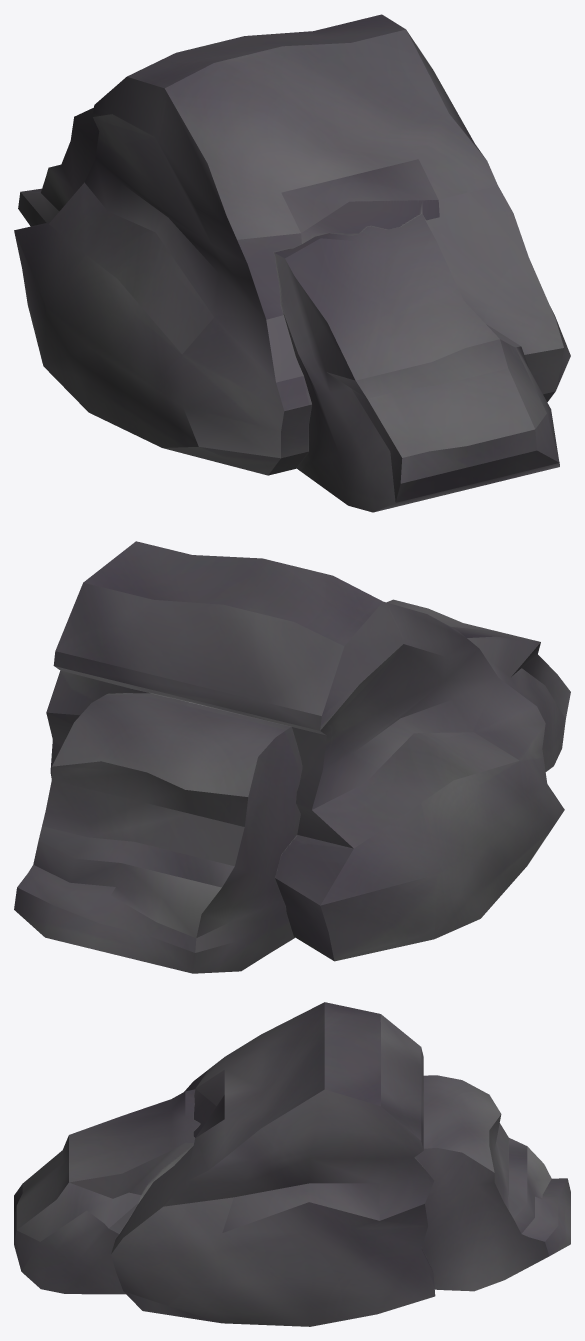
Rendered from batu2.fbx.
The picture shows the model from 3 angles, top to bottom: view 1: azimuth 30°, elevation 25°; view 2: azimuth 150°, elevation 25°; view 3: azimuth 270°, elevation 25°; orthographic projection. The views are drawn at different scales.
Visible parts, largest first — view 1: batu1; view 2: batu1; view 3: batu1.
Boxes of the visible parts, box(x1,y1,x2,y2) form: batu1: box(14, 14, 570, 512); batu1: box(14, 541, 570, 973); batu1: box(14, 1002, 570, 1326).
Bounding box in the file's own units: 249 × 191 × 420.
